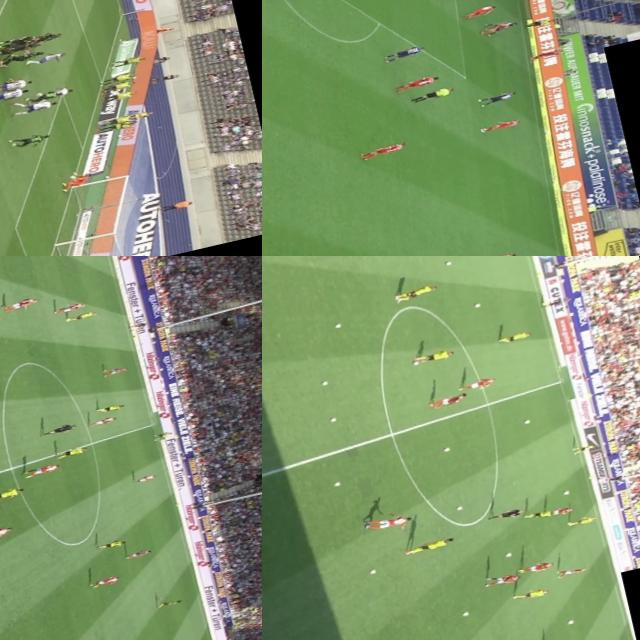ball: (502, 549, 514, 557), (332, 479, 343, 487), (440, 444, 450, 452), (454, 504, 464, 512), (328, 415, 339, 422), (442, 259, 453, 266), (331, 322, 343, 328), (558, 45, 569, 51), (472, 302, 483, 308), (320, 379, 330, 385), (566, 618, 576, 624), (412, 359, 422, 365), (462, 609, 471, 615), (562, 488, 570, 494), (368, 568, 377, 573), (523, 419, 532, 423), (157, 595, 164, 600)
player: (398, 534, 458, 558), (359, 140, 408, 162), (384, 40, 428, 64), (364, 512, 412, 534), (473, 115, 522, 136), (56, 166, 94, 192), (8, 128, 56, 148), (392, 283, 438, 303), (11, 96, 56, 116), (394, 72, 439, 92), (0, 48, 47, 66), (23, 87, 64, 106), (21, 29, 64, 47), (27, 48, 68, 66), (0, 39, 40, 57), (478, 88, 518, 106), (22, 460, 62, 478), (0, 48, 42, 65), (0, 294, 42, 311), (29, 86, 73, 102), (0, 31, 41, 47), (0, 74, 32, 94), (512, 586, 552, 602), (515, 559, 552, 576), (428, 392, 466, 408), (458, 377, 496, 393), (487, 570, 522, 587), (86, 572, 123, 588), (464, 1, 498, 18), (0, 85, 30, 104), (415, 348, 452, 363), (64, 307, 103, 321), (52, 299, 88, 314), (0, 483, 26, 503), (530, 46, 564, 61), (488, 17, 518, 34), (93, 399, 126, 414), (474, 246, 523, 256), (496, 330, 531, 344), (58, 443, 90, 458), (123, 546, 155, 560), (96, 536, 128, 550), (480, 20, 511, 34), (542, 504, 575, 517), (522, 507, 554, 520), (565, 514, 596, 526), (156, 596, 186, 608), (130, 472, 160, 484), (104, 364, 131, 376), (558, 566, 585, 578), (90, 414, 116, 426), (150, 430, 175, 440), (0, 524, 13, 543), (570, 444, 594, 454)
